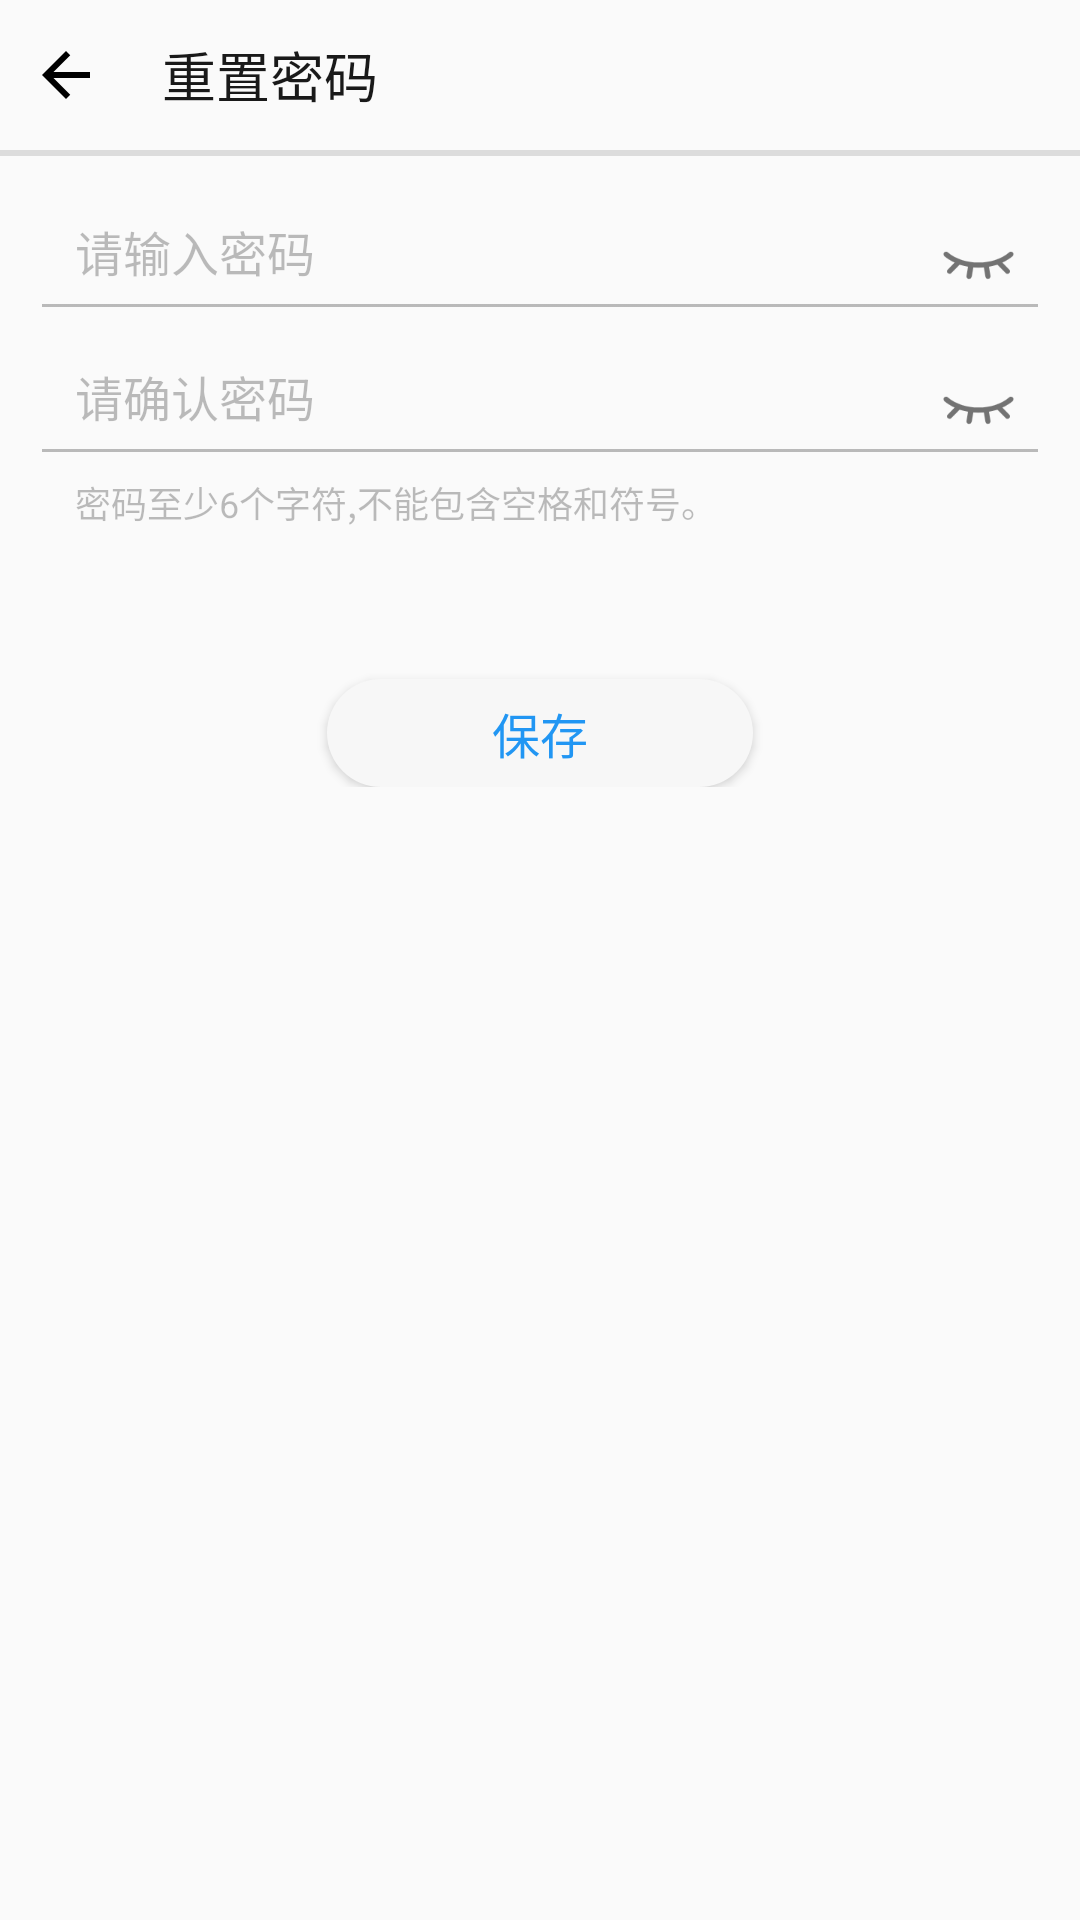

Where icons sit on this 1080 × 1920 app screen, as (x1, y1, x2, y2):
arrow left: (42, 51, 90, 99)
